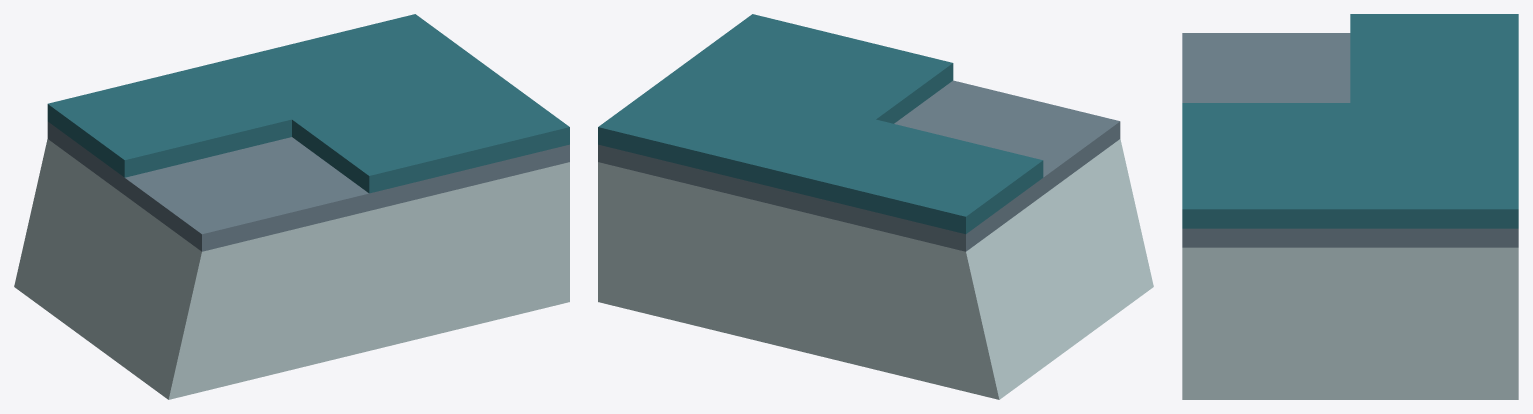
Rendered from Lv2Obsticle1Right.fbx.
3 views of the same model, side by side, from view 1: azimuth 30°, elevation 25°; view 2: azimuth 150°, elevation 25°; view 3: azimuth 270°, elevation 25° (orthographic). The views are drawn at different scales.
Parts seen in each view (by area): view 1: Lv2Obsticle1Right; view 2: Lv2Obsticle1Right; view 3: Lv2Obsticle1Right.
Boxes of the visible parts, box(x1,y1,x2,y2) form: Lv2Obsticle1Right: box(14, 14, 569, 399); Lv2Obsticle1Right: box(598, 14, 1153, 399); Lv2Obsticle1Right: box(1182, 14, 1518, 399).
Size of the model in its own units: 2400 by 1000 by 1600.
